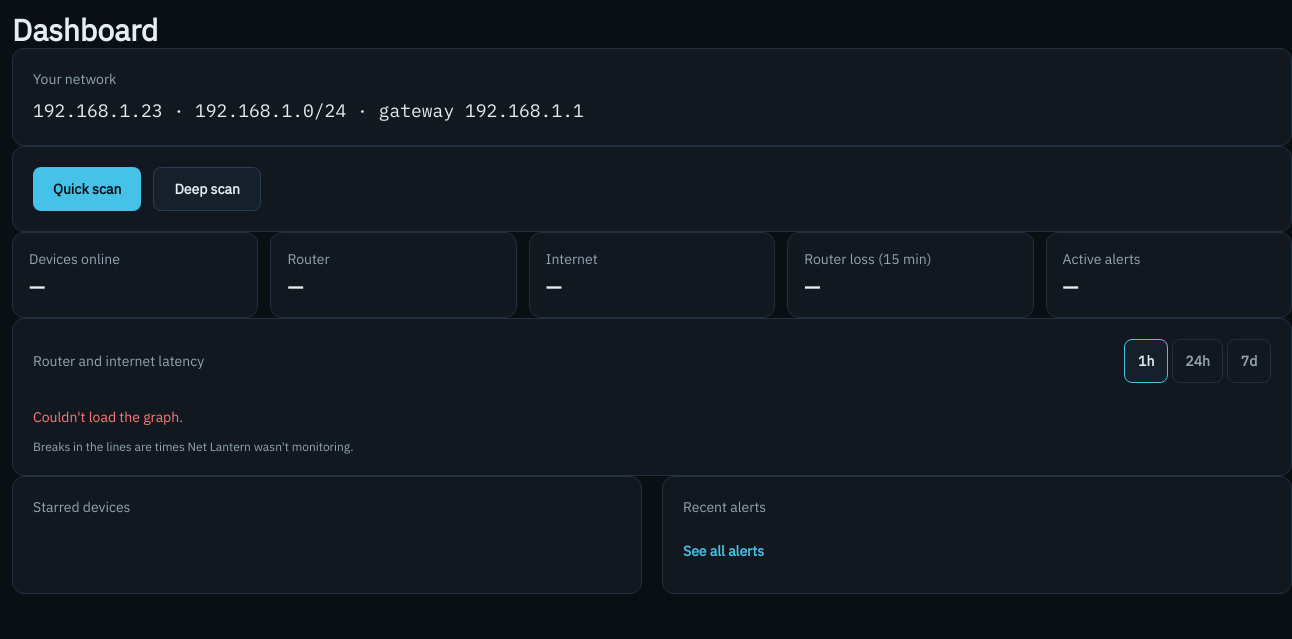
Test: Dashboard › shows the server's message in an alert when the scan cannot start
Click the button "Quick scan" at (87, 189), box [33, 167, 141, 211]
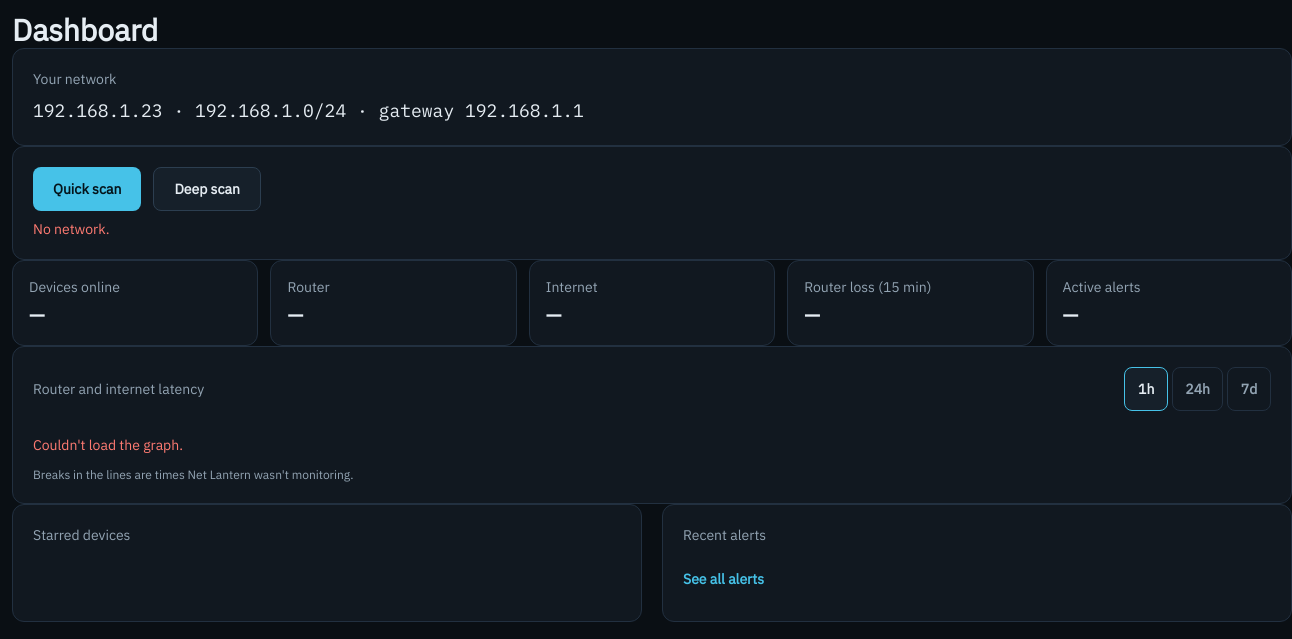
Expected: the message reads "No network.", [33, 220, 110, 238]
